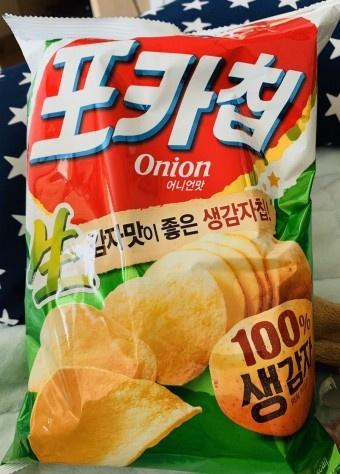snack: (0, 0, 340, 473)
